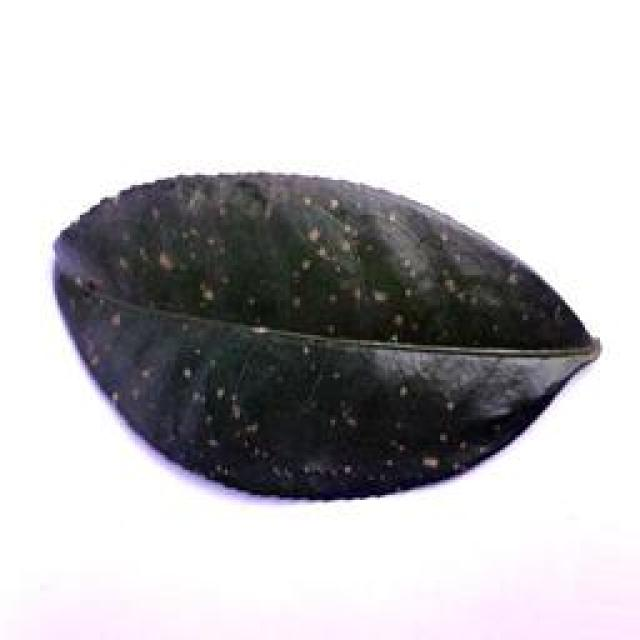Algal Leaf Spot: (49, 164, 608, 505)
